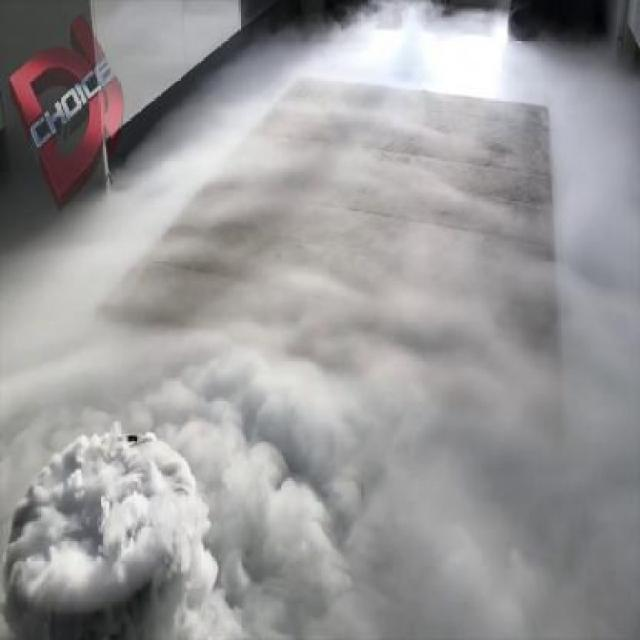smoke: (3, 264, 446, 630)
